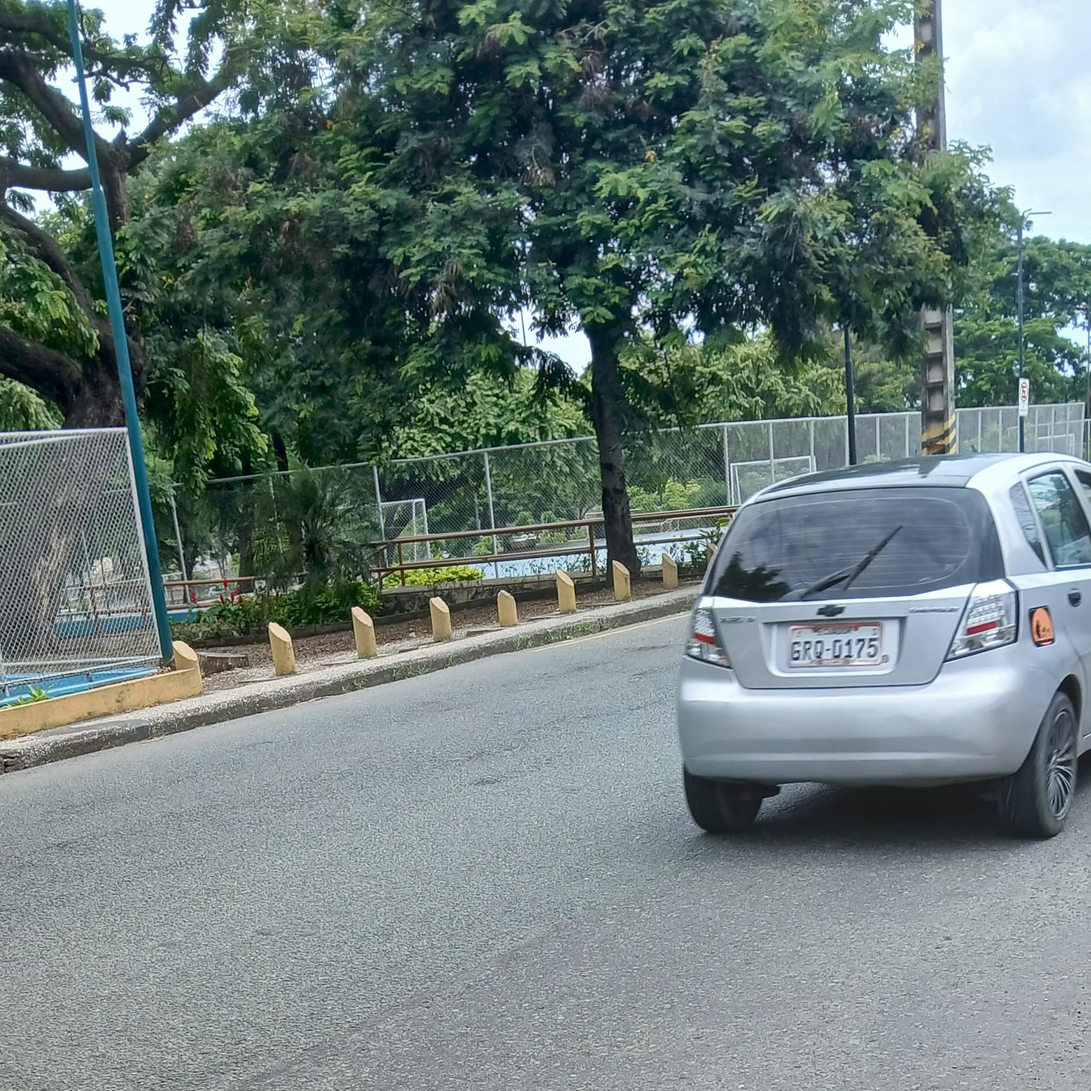license_plate: (785, 622, 888, 668)
